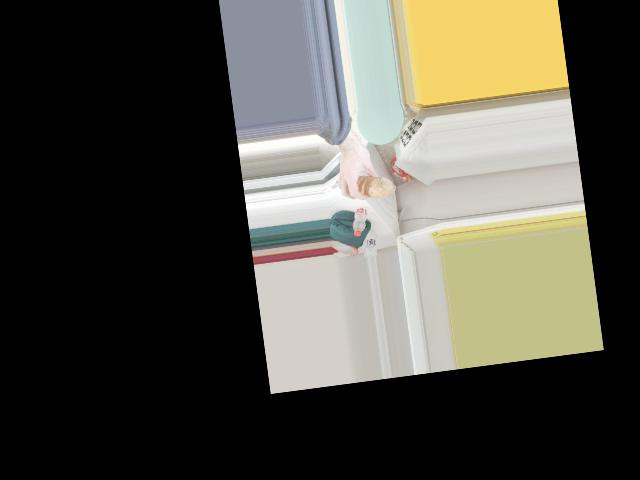sweet_potato: (351, 167, 387, 202)
